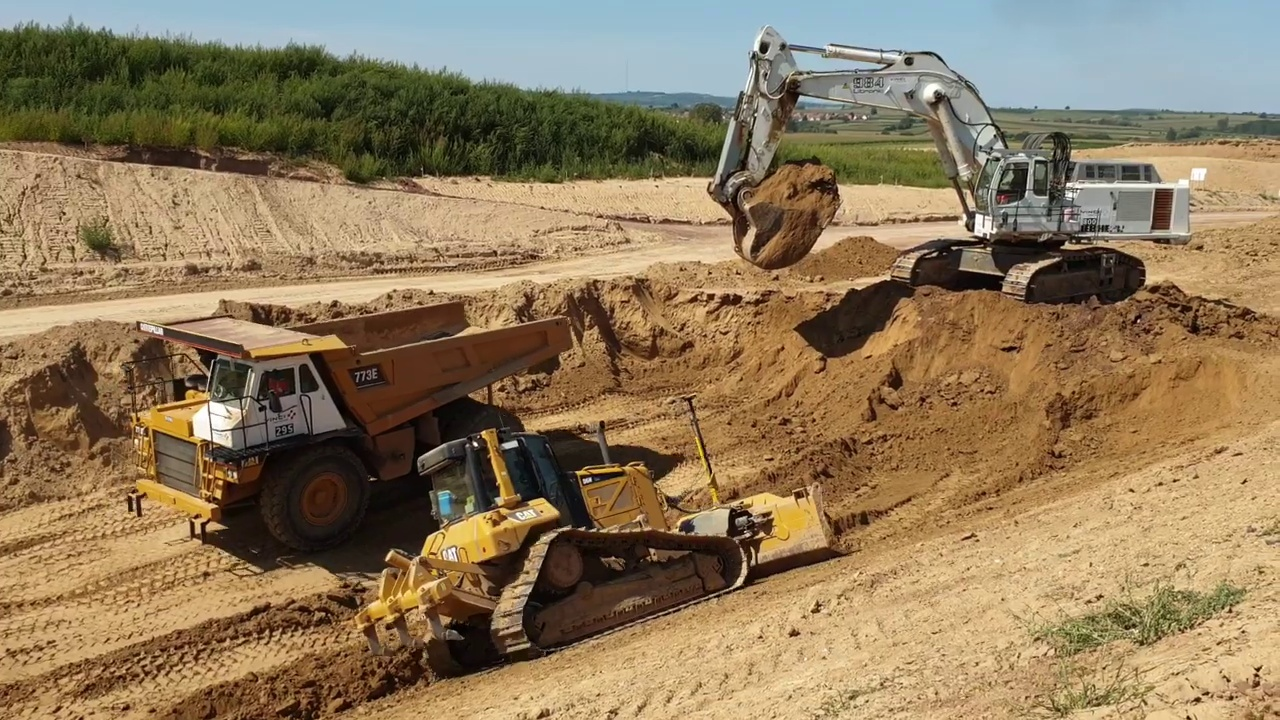bulldozer: (349, 390, 849, 669)
excavator: (704, 17, 1195, 310)
truck: (116, 298, 583, 555)
